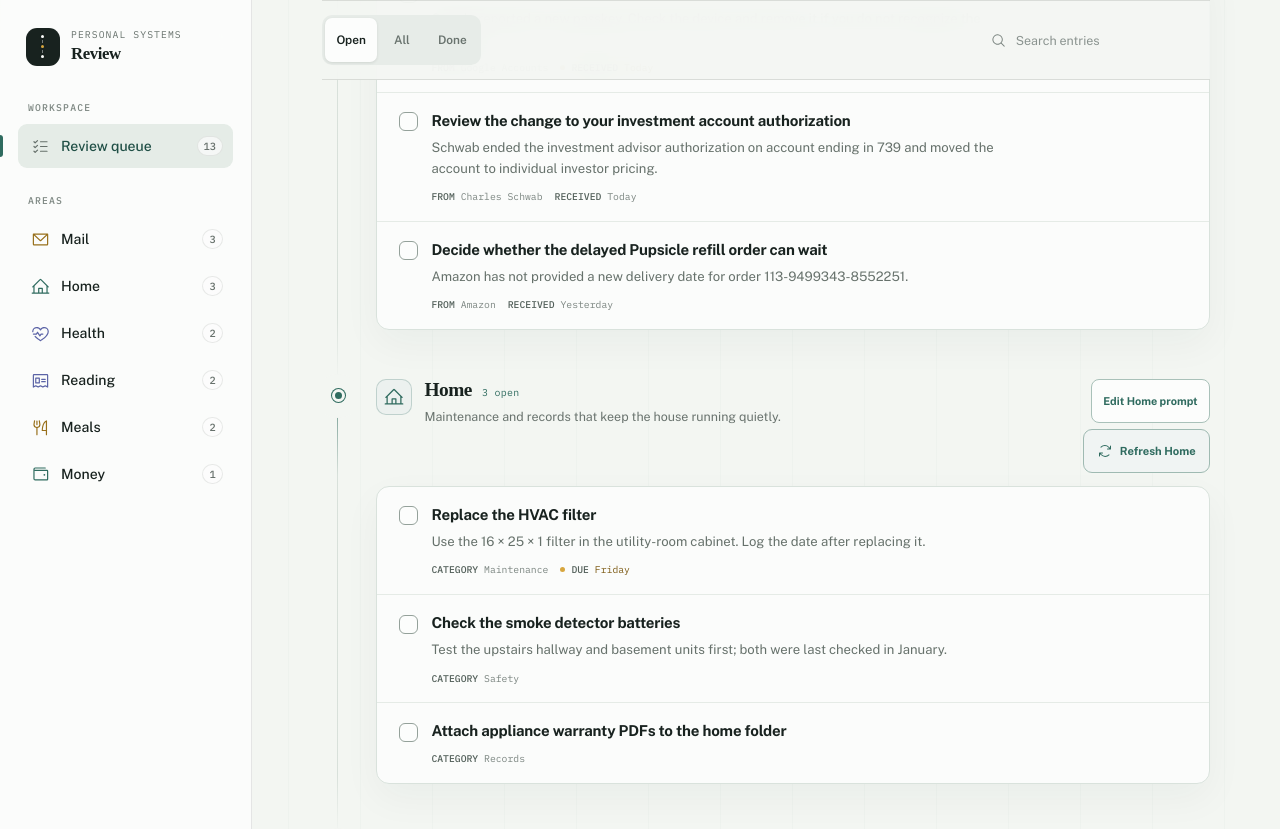
it: ReviewApp › does not reload or claim success when an individual refresh is skipped
The width and height of the screenshot is (1280, 829).
(page scrolled)
Click the button "Refresh Home": (1146, 451) [1083,429,1210,473]
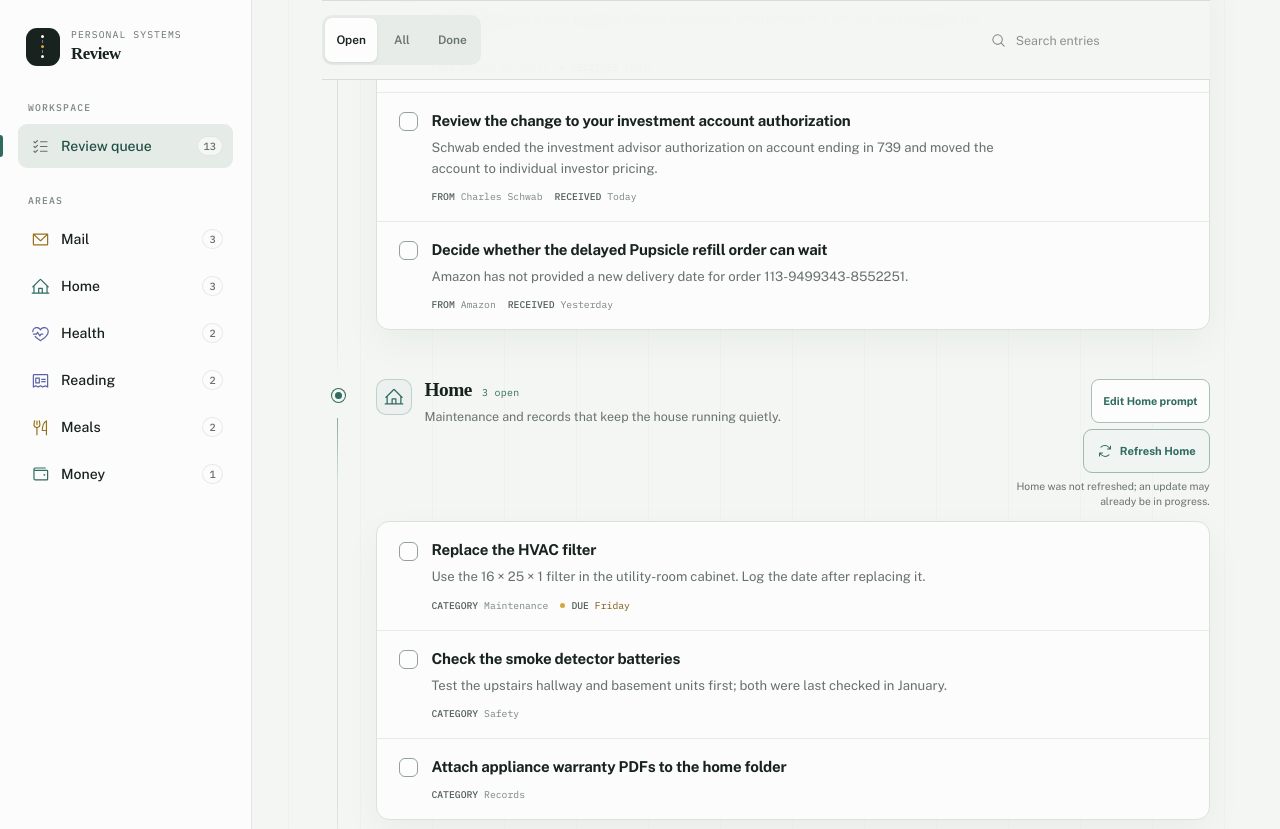
Now the text "Home was not refreshed; an update may already be in progress." is shown, box [990,479,1210,508]
